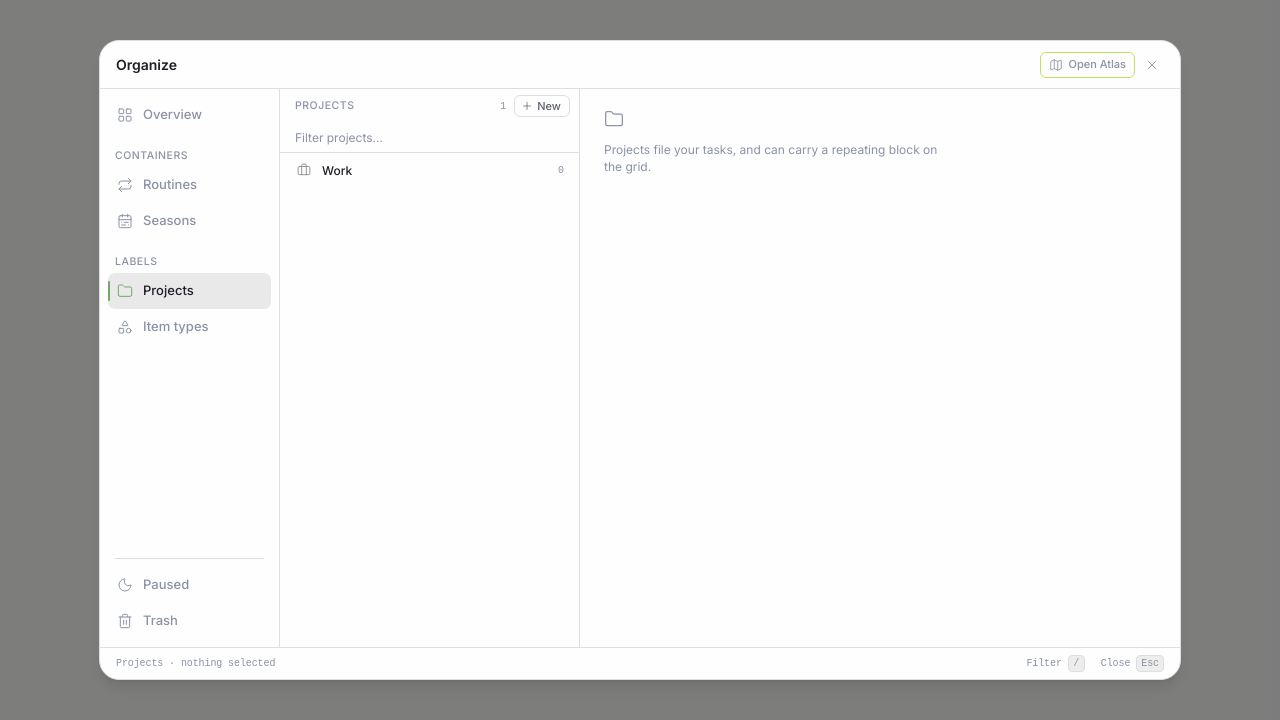
Scenario: creating a project whose name the Trash still holds › says nothing about a name the bin does not hold
Click the button with test id "project-new" at (542, 106), box [514,95,570,117]
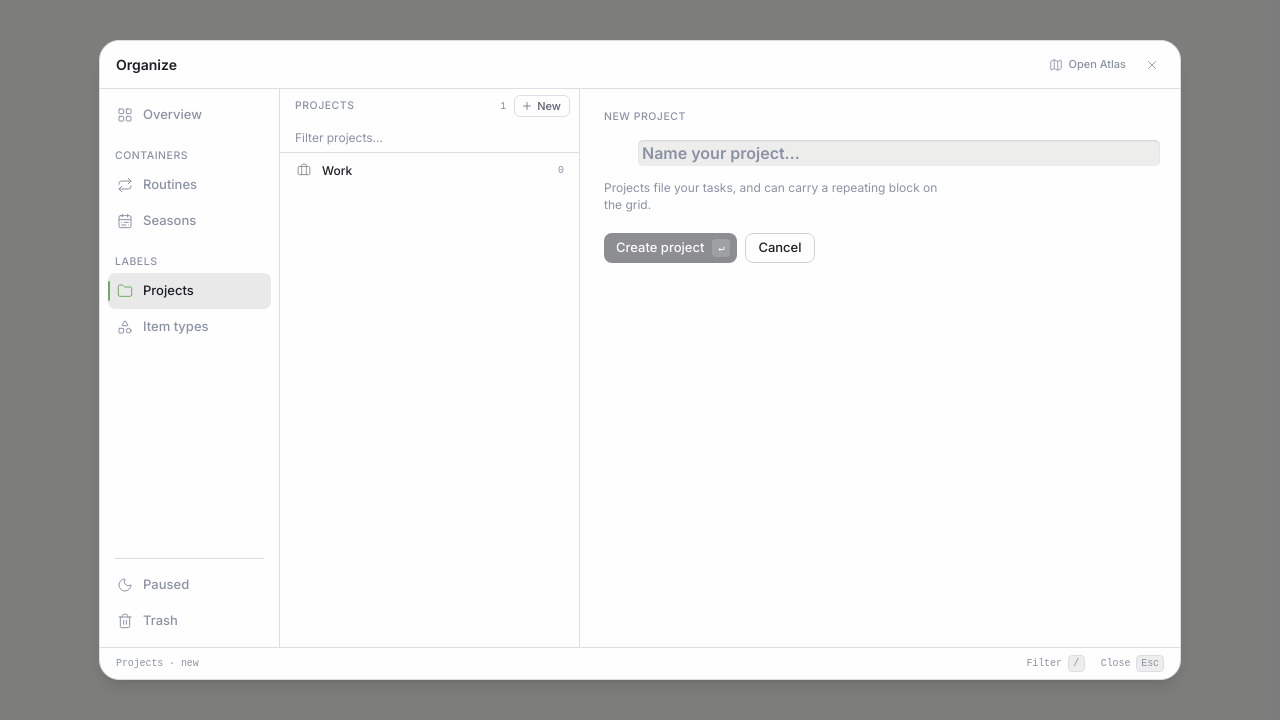
Type "Reading" into the field with test id "project-new-name" at (899, 153), box [638,140,1160,166]
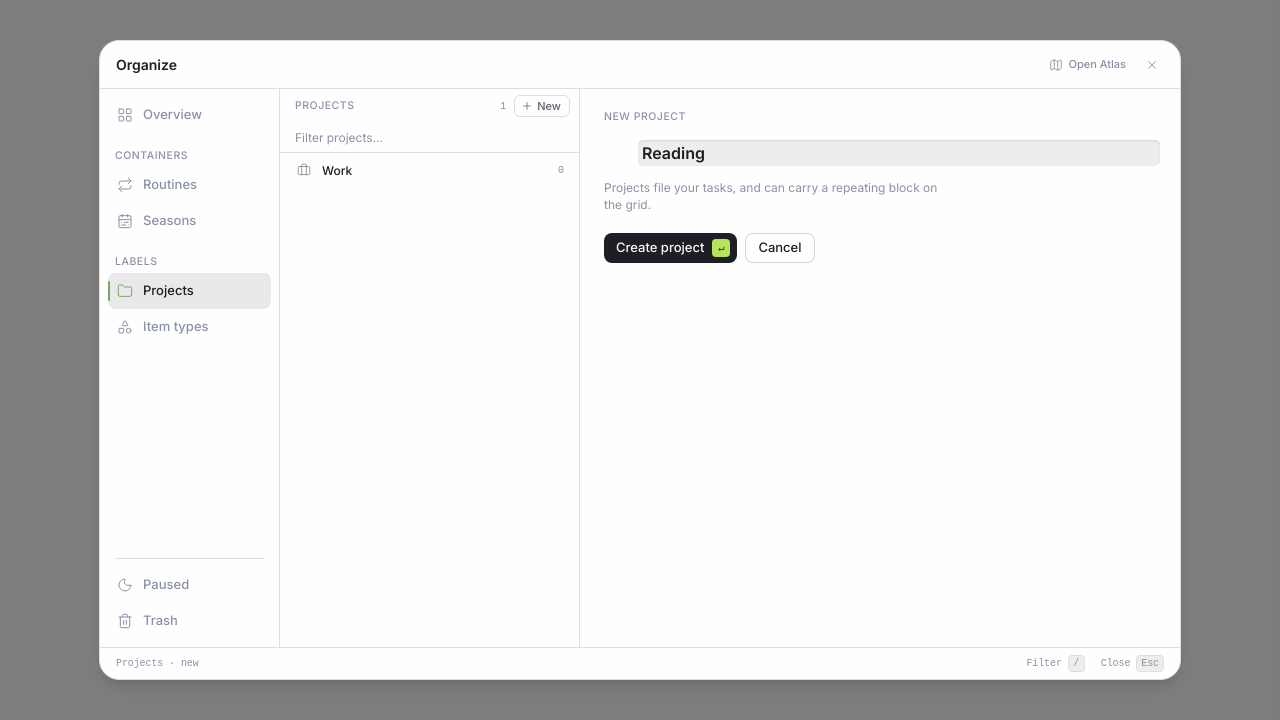
Now the button with test id "project-add" is enabled, box [604,233,737,263]
